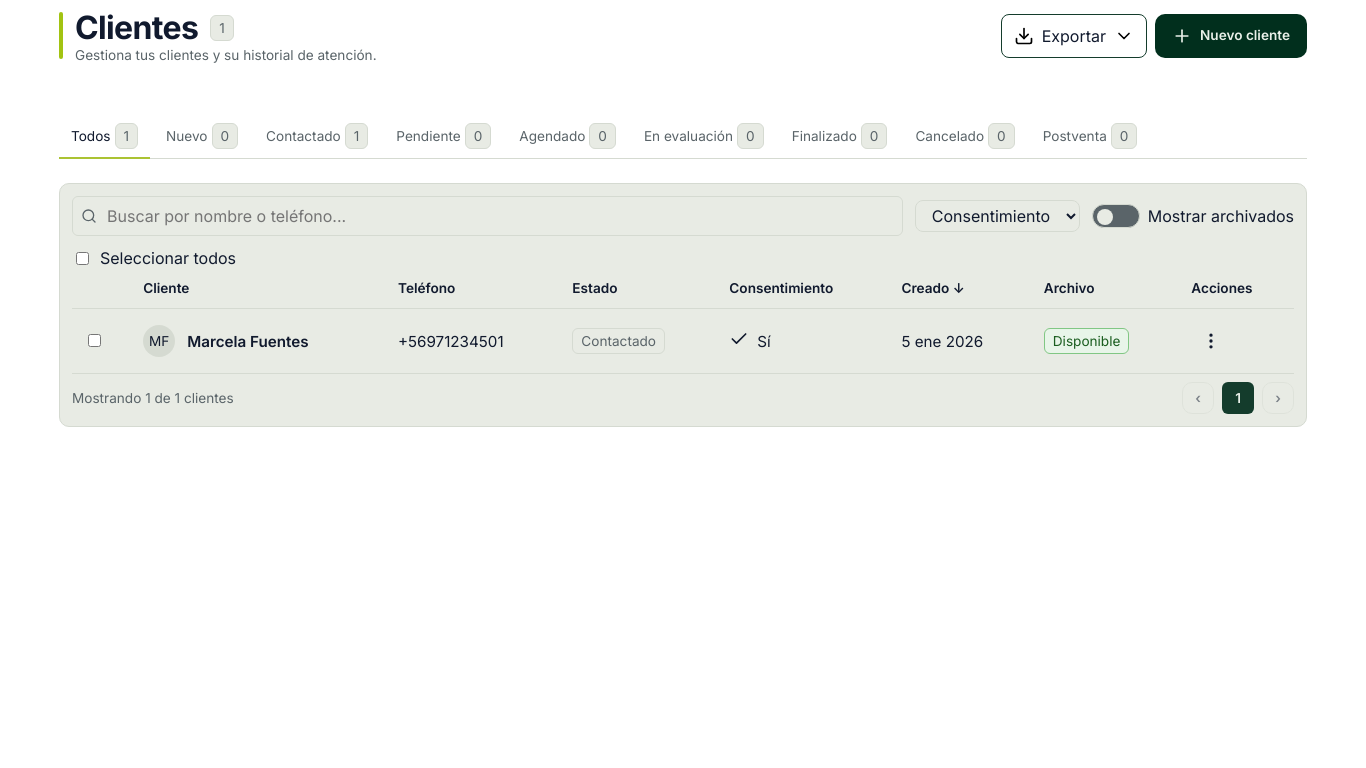
Test: ClientesList API behavior › offers only the allowed lifecycle transitions in the dialog
The width and height of the screenshot is (1366, 768).
Step 1. Click the button named "Acciones para Marcela Fuentes" → [1211, 341], box [1191,321,1231,361]
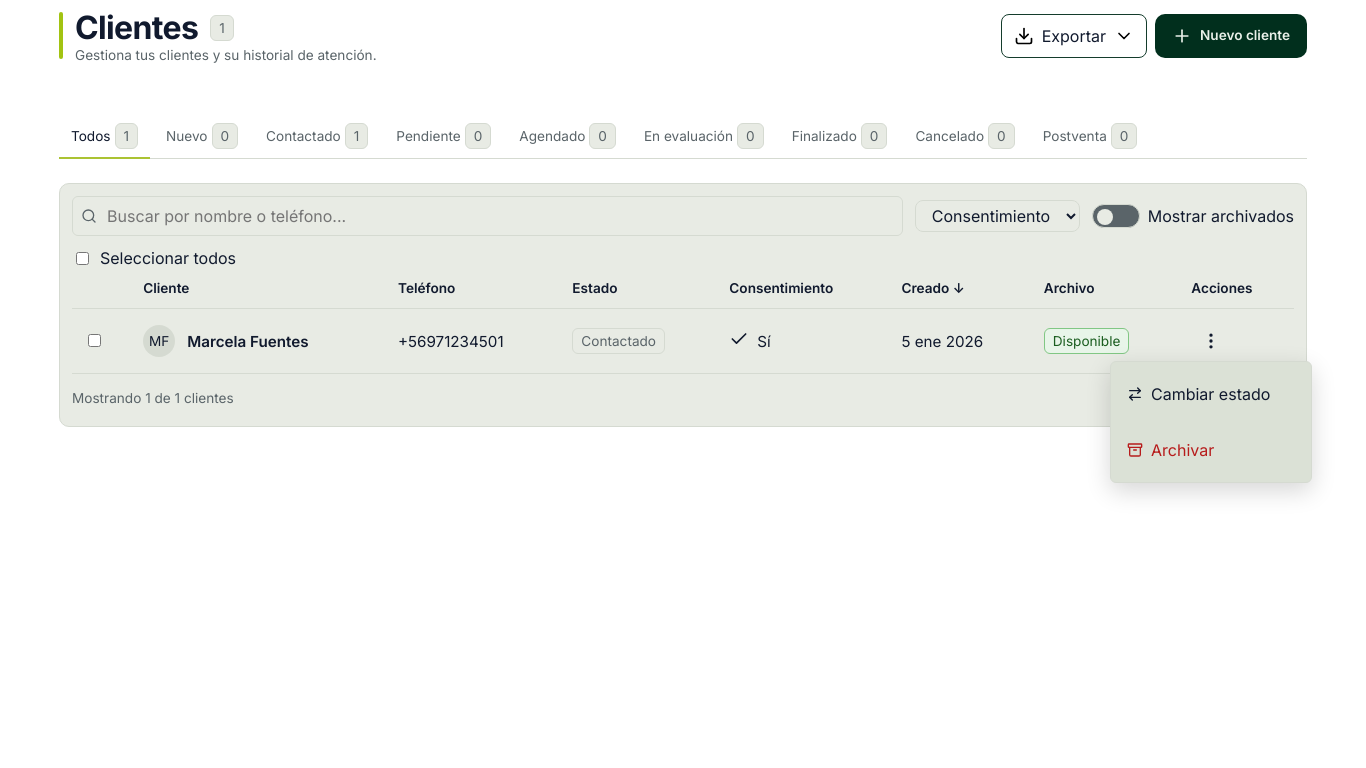
Step 2. Click the menu item "Cambiar estado" → [1199, 394], box [1127,384,1270,404]
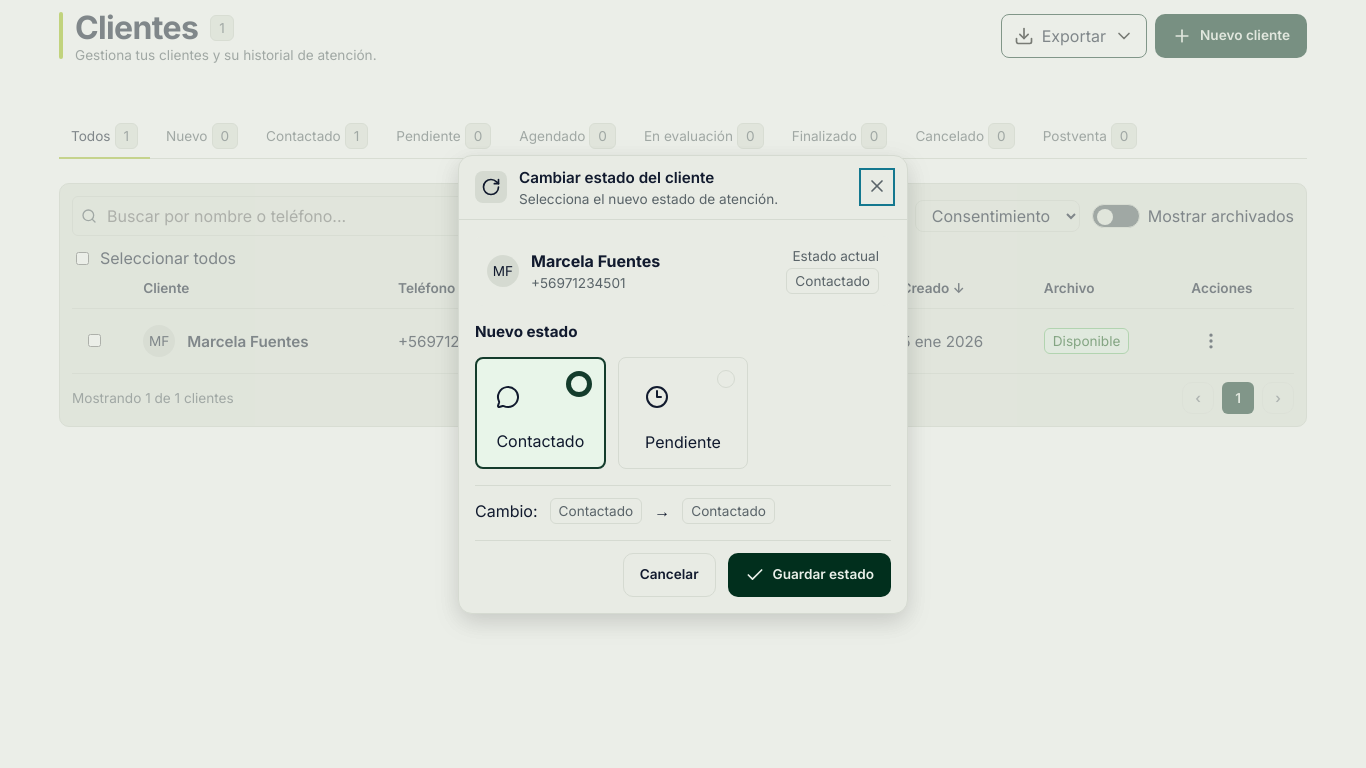
Expected: the number of radio buttons is 2, [475,356,606,468]; [618,356,748,468]
Expected: the radio button labelled "Contactado" is shown, [475,356,606,468]
Expected: the radio button labelled "Pendiente" is shown, [618,356,748,468]
